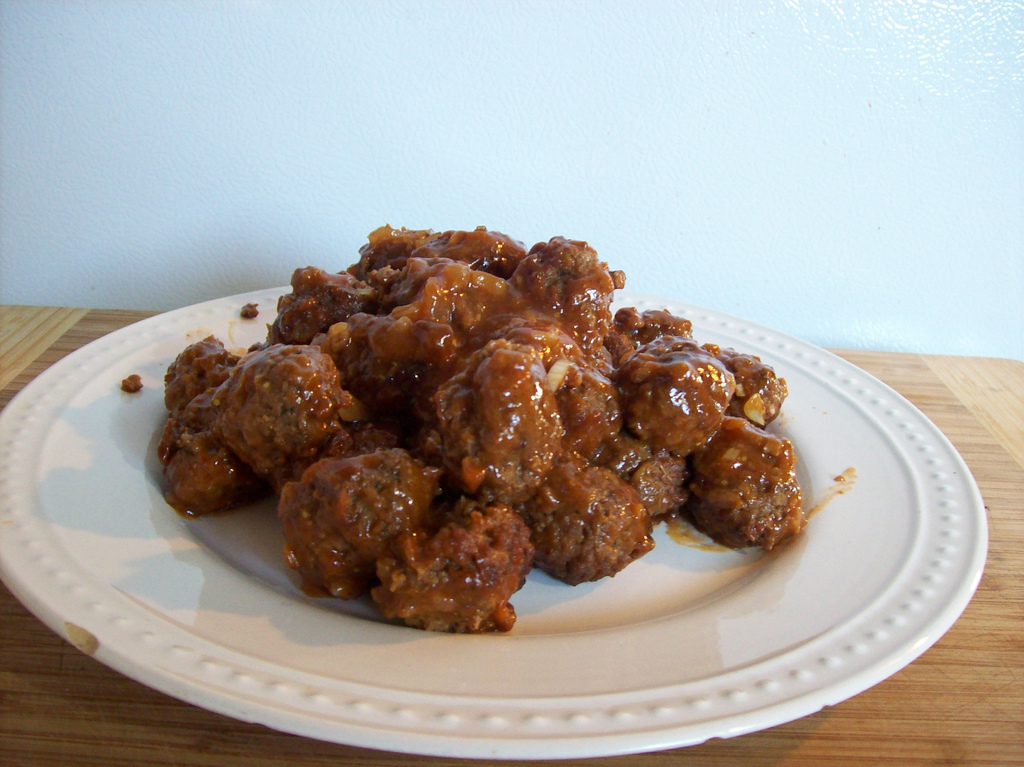meatballs: (268, 296, 719, 557)
